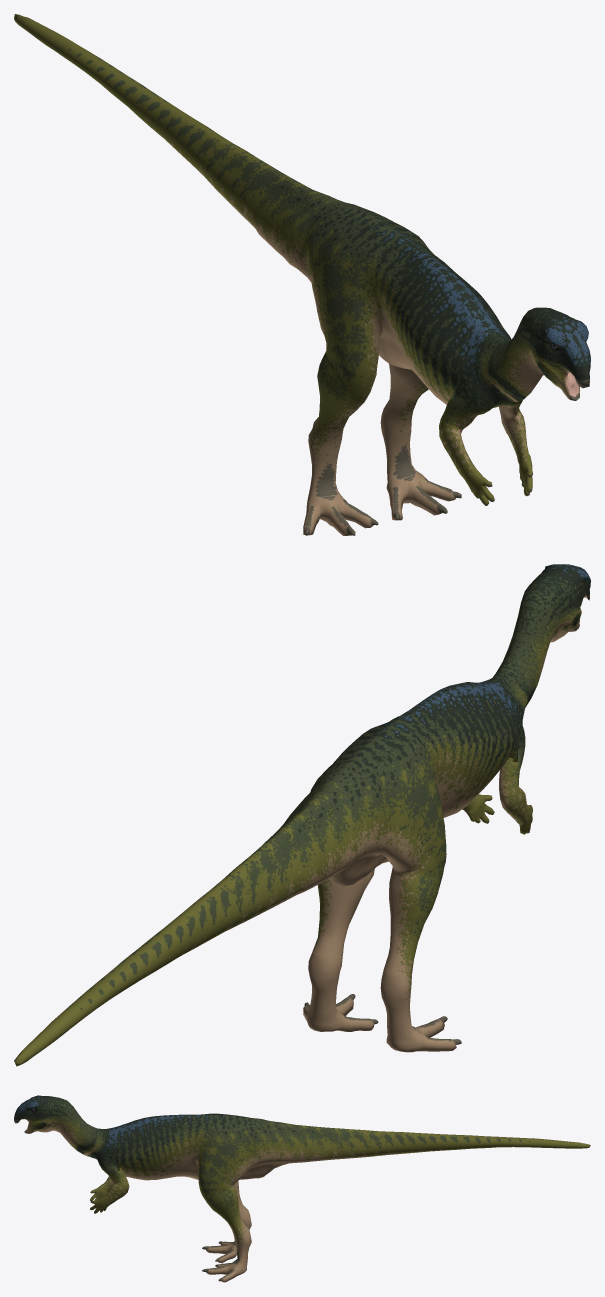
File: Dryosaurio.glb
3 views of the same model, one above another, from view 1: azimuth 30°, elevation 25°; view 2: azimuth 150°, elevation 25°; view 3: azimuth 270°, elevation 25° (orthographic). The views are drawn at different scales.
Visible parts, largest first — view 1: DW_Dryosaurio_Adulto_Mayor_mesh; view 2: DW_Dryosaurio_Adulto_Mayor_mesh; view 3: DW_Dryosaurio_Adulto_Mayor_mesh.
Boxes of the visible parts, x1,y1,x2,y2 form: DW_Dryosaurio_Adulto_Mayor_mesh: [14, 14, 590, 535]; DW_Dryosaurio_Adulto_Mayor_mesh: [14, 564, 590, 1066]; DW_Dryosaurio_Adulto_Mayor_mesh: [14, 1095, 590, 1282].
Size of the model in its own units: 0.1581 by 0.323 by 1.
2 materials, 2 textured.
